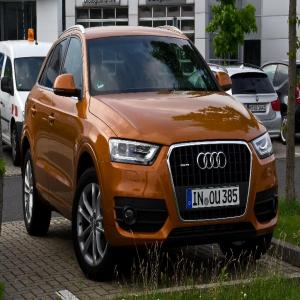Vehicle-registration-plate: (187, 184, 241, 210), (249, 104, 268, 115)
